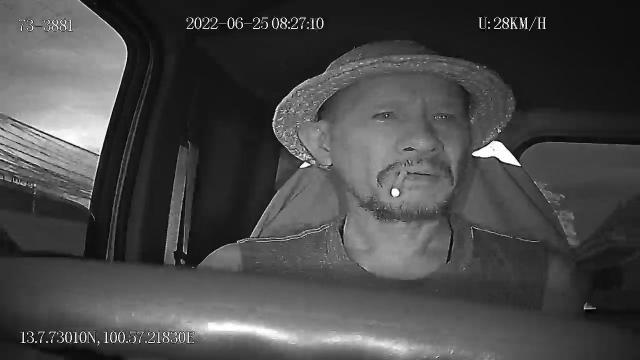SafeDriving: (423, 100, 461, 130), (366, 99, 404, 127)
Smoking: (390, 167, 408, 198)
